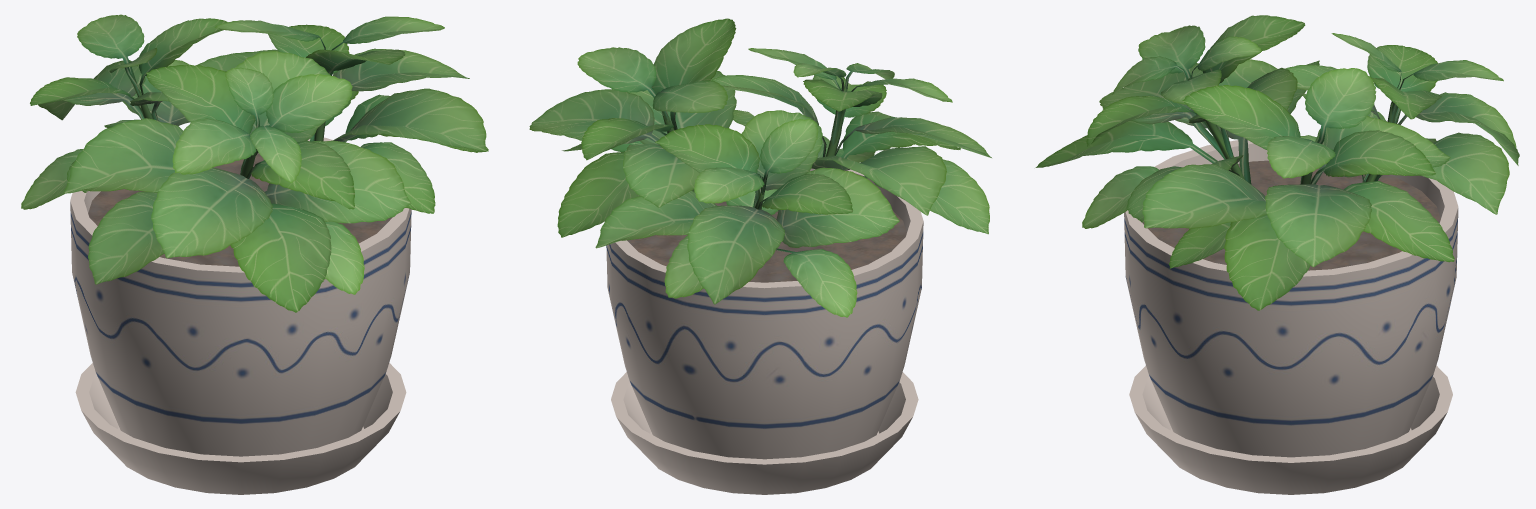
Rendered from homegrowers.glb.
3 views of the same model, side by side, from view 1: azimuth 30°, elevation 25°; view 2: azimuth 150°, elevation 25°; view 3: azimuth 270°, elevation 25° (orthographic). The views are drawn at different scales.
Visible parts, largest first — view 1: Basil_A.002, Pot.002; view 2: Basil_A.002, Pot.002; view 3: Basil_A.002, Pot.002.
Part boxes in pixels (x1,y1,x2,y2): Basil_A.002: (21, 14, 488, 312); Pot.002: (70, 137, 411, 494); Basil_A.002: (529, 18, 991, 317); Pot.002: (606, 168, 923, 494); Basil_A.002: (1035, 15, 1519, 310); Pot.002: (1124, 140, 1458, 494).
Size of the model in its own units: 0.2318 by 0.1991 by 0.2301.
2 materials, 2 textured.
